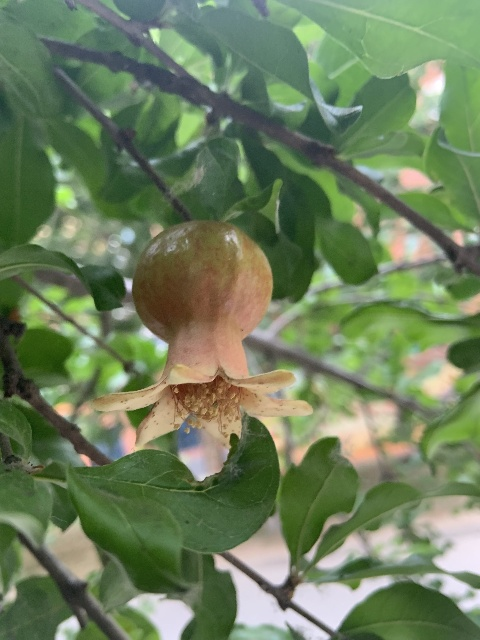early-fruit: (88, 219, 307, 446)
